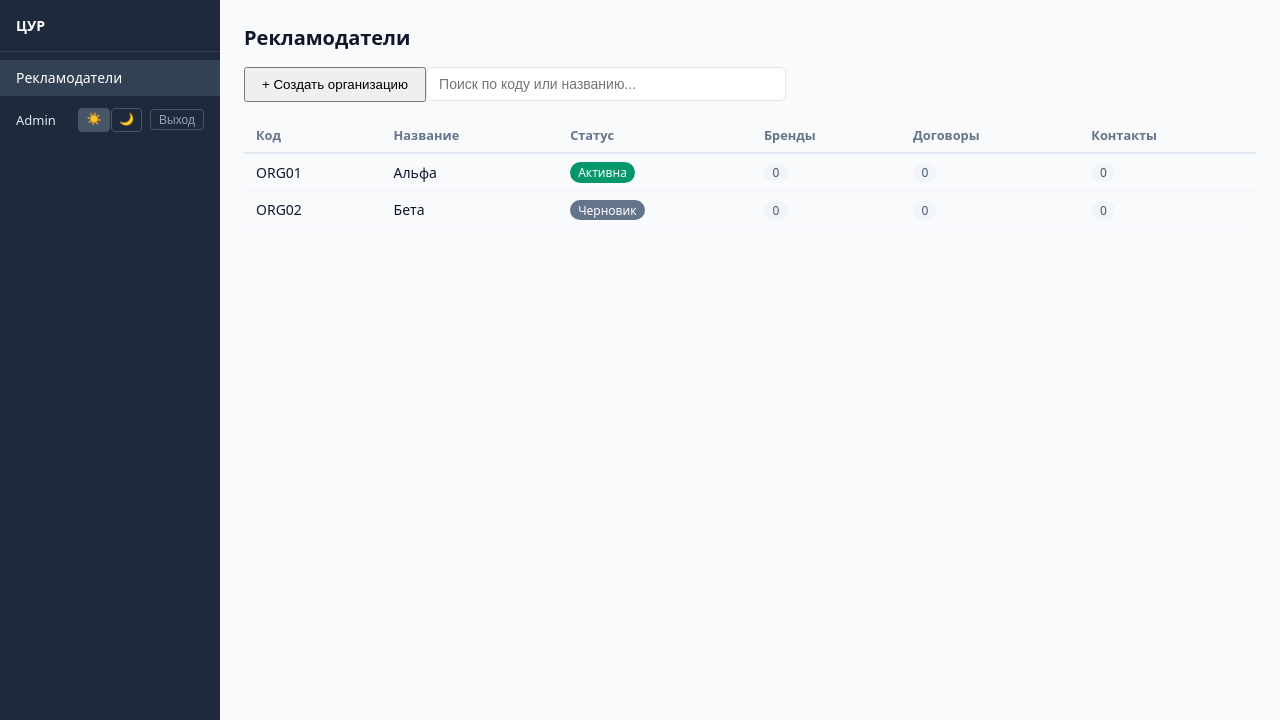
Test: AdvertisersPage › create modal saves via POST API and closes
// Click create button → wizard opens
Click the button with test id "advertiser-create-open".
click(335, 84)  # box x1=244 y1=67 x2=426 y2=102
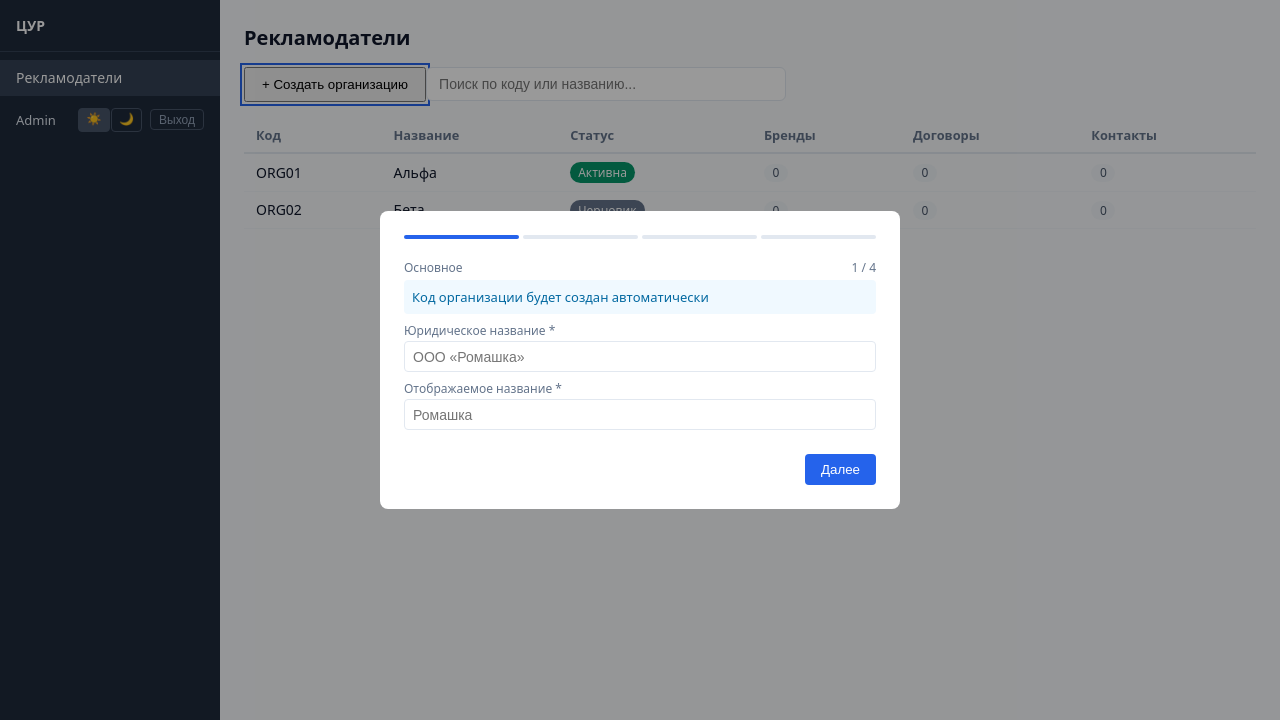
Expected: the element with test id "advertiser-wizard" is shown
Expected: the element with test id "advertiser-wizard-step-main" is shown, x1=404 y1=280 x2=876 y2=438
Type "ООО Новый" into the field with test id "advertiser-wizard-name".
click(640, 357); type("ООО Новый")  # box x1=404 y1=341 x2=876 y2=372
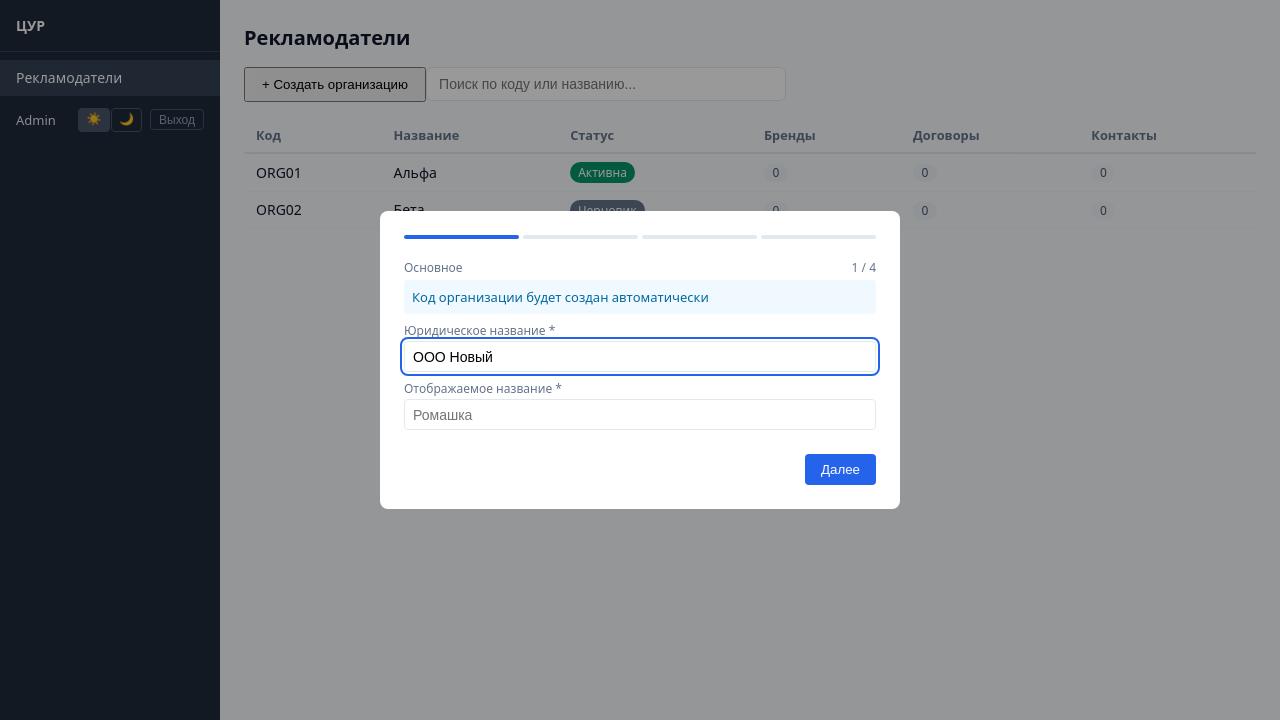
// There's also a display_name field
Type "Новый" into the field with test id "advertiser-wizard-display-name".
click(640, 415); type("Новый")  # box x1=404 y1=399 x2=876 y2=430
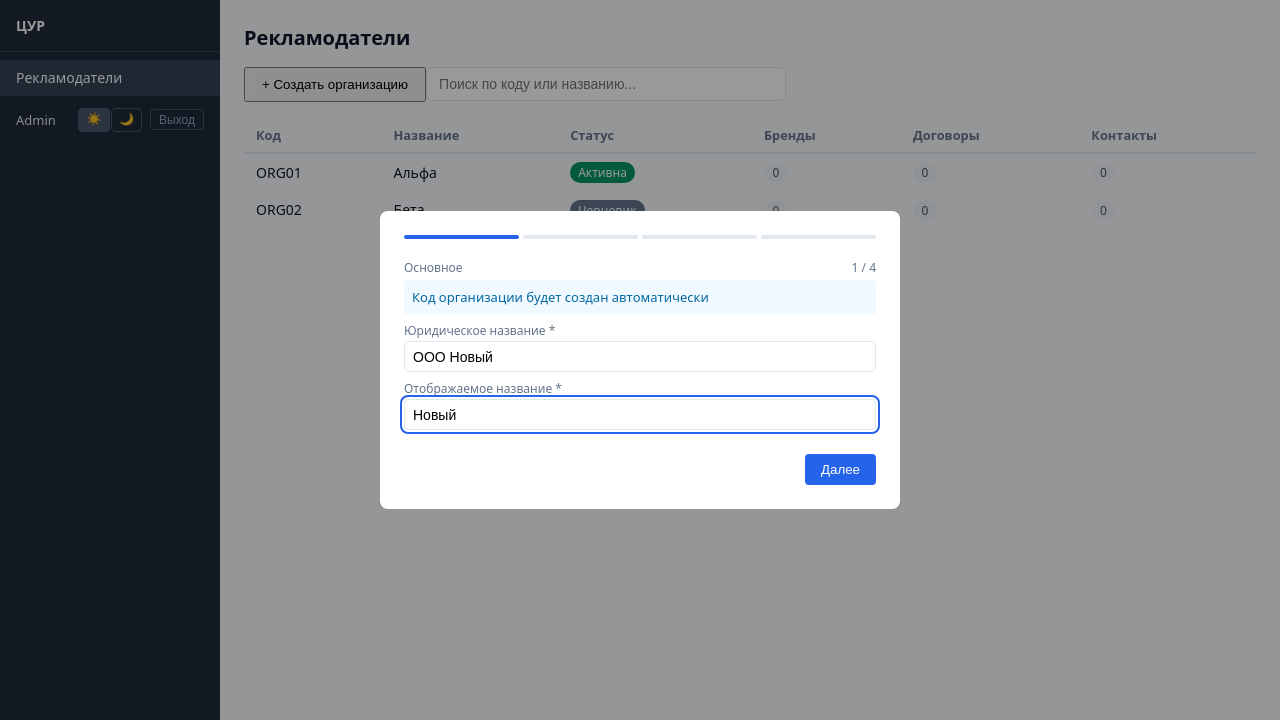
// Click Next → triggers API create
Click the button with test id "advertiser-wizard-next".
click(840, 470)  # box x1=805 y1=454 x2=876 y2=485
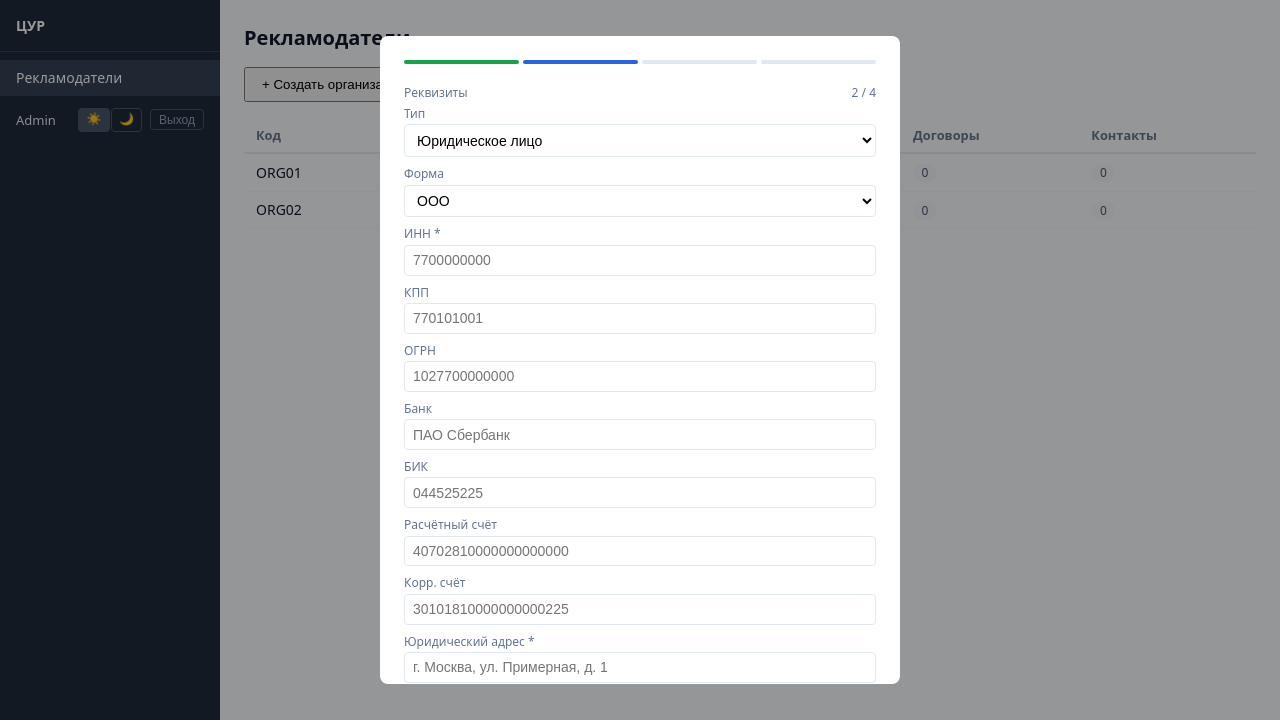
Expected: the element with test id "advertiser-wizard-step-legal-active" is shown, x1=523 y1=60 x2=638 y2=64
